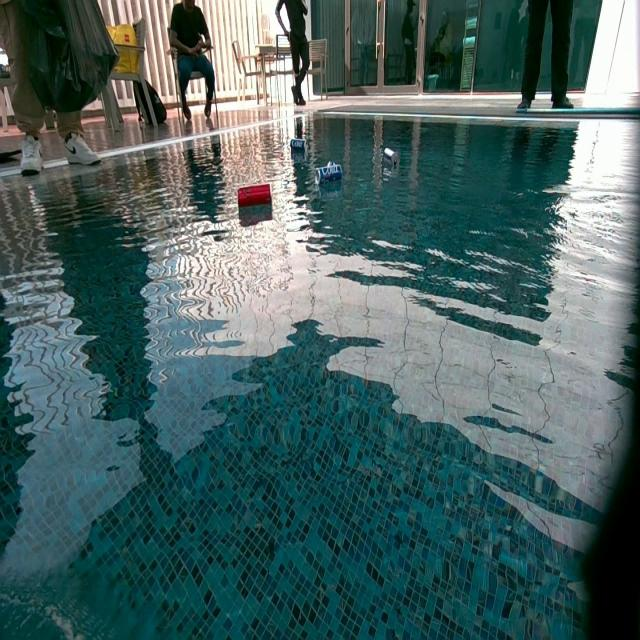Cans: (238, 186, 271, 209), (315, 163, 342, 185), (380, 149, 400, 172), (289, 137, 306, 153)
